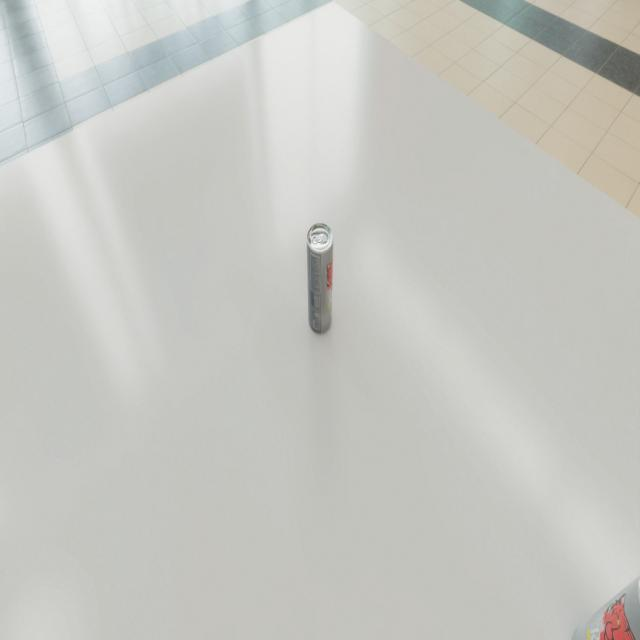Rita_zero_sugar: (307, 222, 333, 334)
